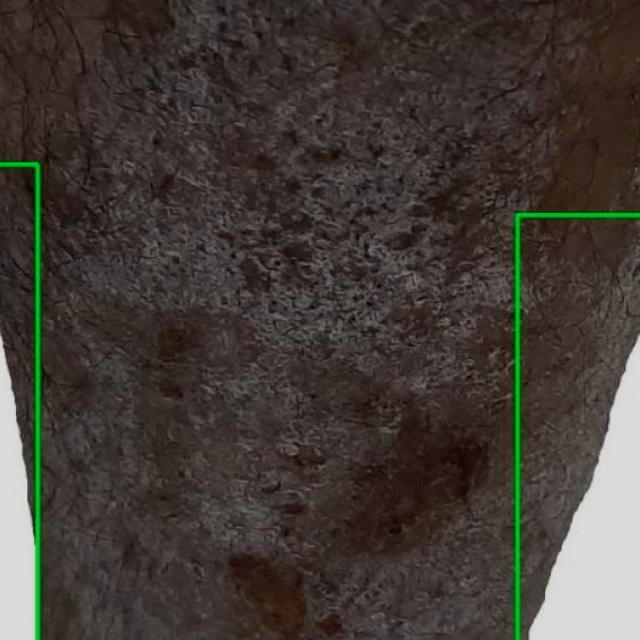Contact Dermatitis: (517, 216, 639, 639)
